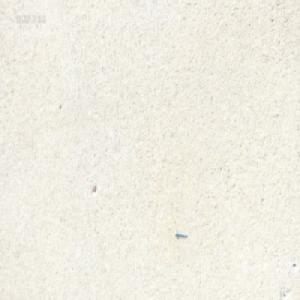Nail: (175, 229, 188, 238)
